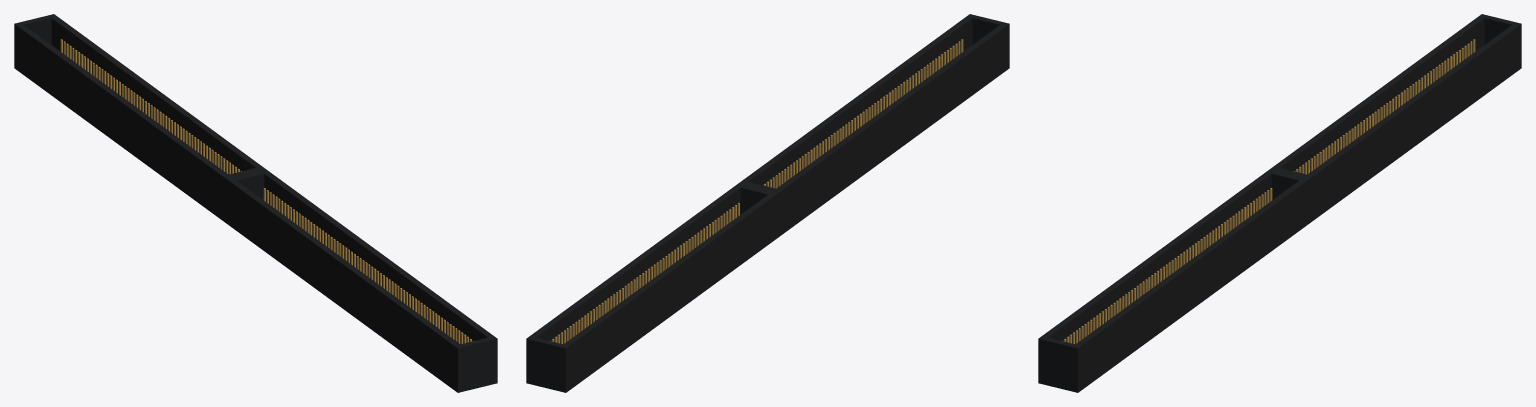
Rendered from L130_DDR5_2.fbx.
3 views of the same model, side by side, from view 1: azimuth 30°, elevation 25°; view 2: azimuth 150°, elevation 25°; view 3: azimuth 330°, elevation 25° (orthographic).
Parts seen in each view (by area): view 1: DDR5_2__Plastic, DDR5_2__Gold; view 2: DDR5_2__Plastic, DDR5_2__Gold; view 3: DDR5_2__Plastic, DDR5_2__Gold.
Boxes of the visible parts, x1,y1,x2,y2 form: DDR5_2__Plastic: [14, 14, 497, 392]; DDR5_2__Gold: [60, 39, 473, 343]; DDR5_2__Plastic: [526, 14, 1009, 392]; DDR5_2__Gold: [550, 39, 963, 343]; DDR5_2__Plastic: [1038, 14, 1521, 392]; DDR5_2__Gold: [1062, 39, 1475, 343].
Size of the model in its own units: 7.2 by 7.7 by 139.
